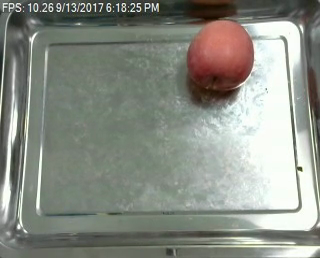Apple: (184, 13, 257, 100)
